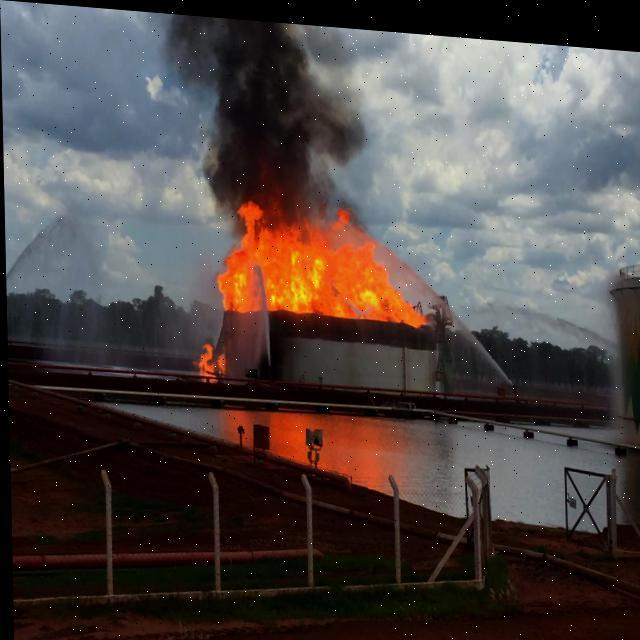Fire: (222, 200, 422, 320), (198, 343, 226, 375)
